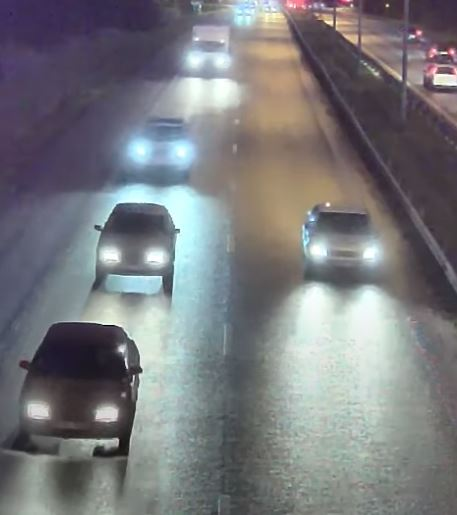Car: (16, 320, 144, 458), (91, 202, 181, 287), (300, 199, 381, 282), (131, 116, 193, 186)
